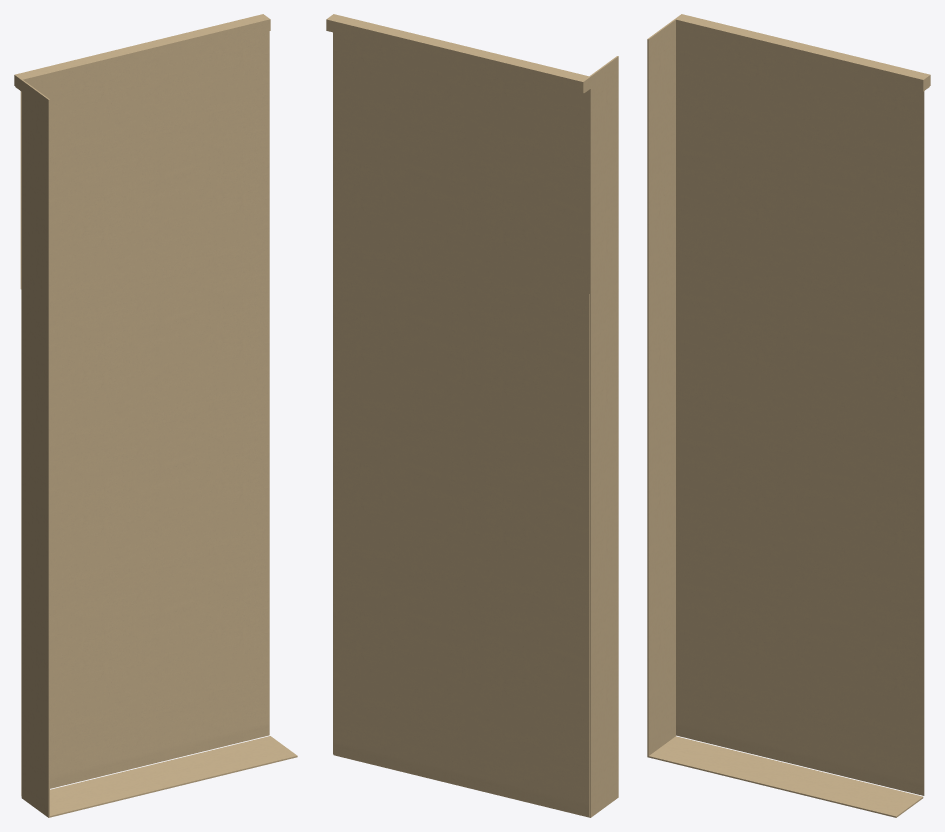
The model's file is b-receivers-link-north-west.glb.
The picture shows the model from 3 angles, left to right: view 1: azimuth 30°, elevation 25°; view 2: azimuth 150°, elevation 25°; view 3: azimuth 330°, elevation 25°; orthographic projection. The views are drawn at different scales.
Visible parts, largest first — view 1: bz06_sand_plaster-cast; view 2: bz06_sand_plaster-cast; view 3: bz06_sand_plaster-cast.
Part boxes in pixels (x1=…): bz06_sand_plaster-cast: x1=14, y1=14, x2=297, y2=817; bz06_sand_plaster-cast: x1=326, y1=14, x2=618, y2=817; bz06_sand_plaster-cast: x1=647, y1=14, x2=930, y2=817.
Bounding box in the file's own units: 3.6 × 9.92 × 0.86.
Materials: 1 (1 with a texture image).
